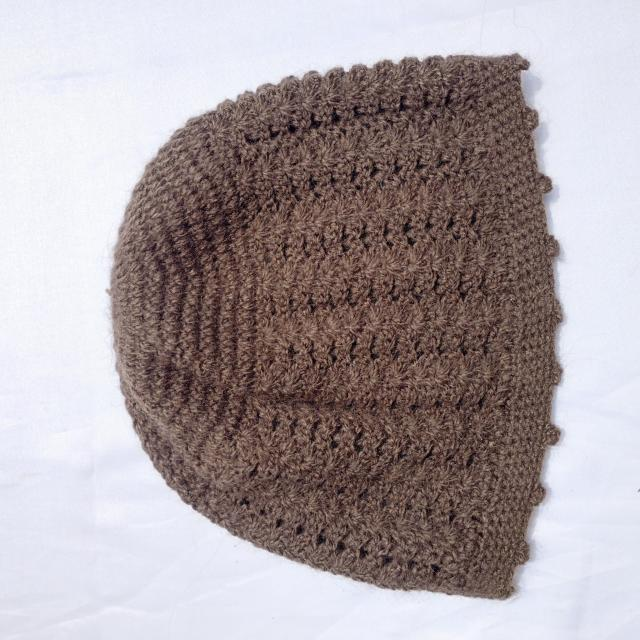Gorro: (107, 52, 565, 600)
